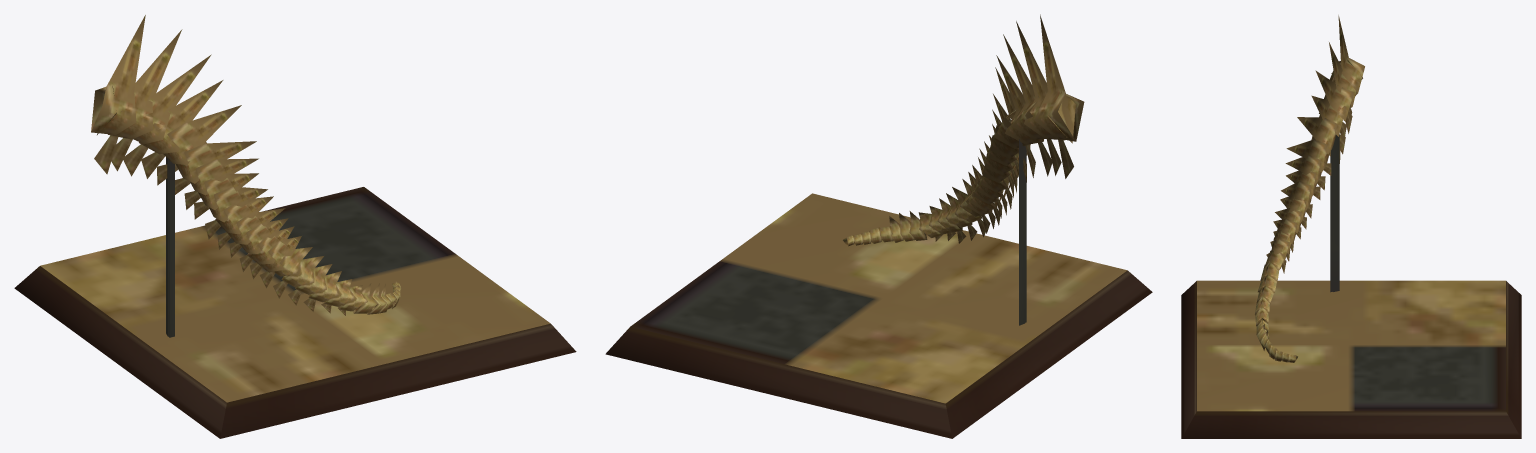
The model's file is int_din_igano_c.dae.
3 views of the same model, side by side, from view 1: azimuth 30°, elevation 25°; view 2: azimuth 150°, elevation 25°; view 3: azimuth 270°, elevation 25° (orthographic). The views are drawn at different scales.
Parts seen in each view (by area): view 1: int_din_igano_c; view 2: int_din_igano_c; view 3: int_din_igano_c.
Part boxes in pixels (x1,y1,x2,y2): int_din_igano_c: (14,15,576,438); int_din_igano_c: (605,14,1152,438); int_din_igano_c: (1181,15,1521,438).
Size of the model in its own units: 62.81 by 55.06 by 58.65.
Materials: 1 (1 with a texture image).
